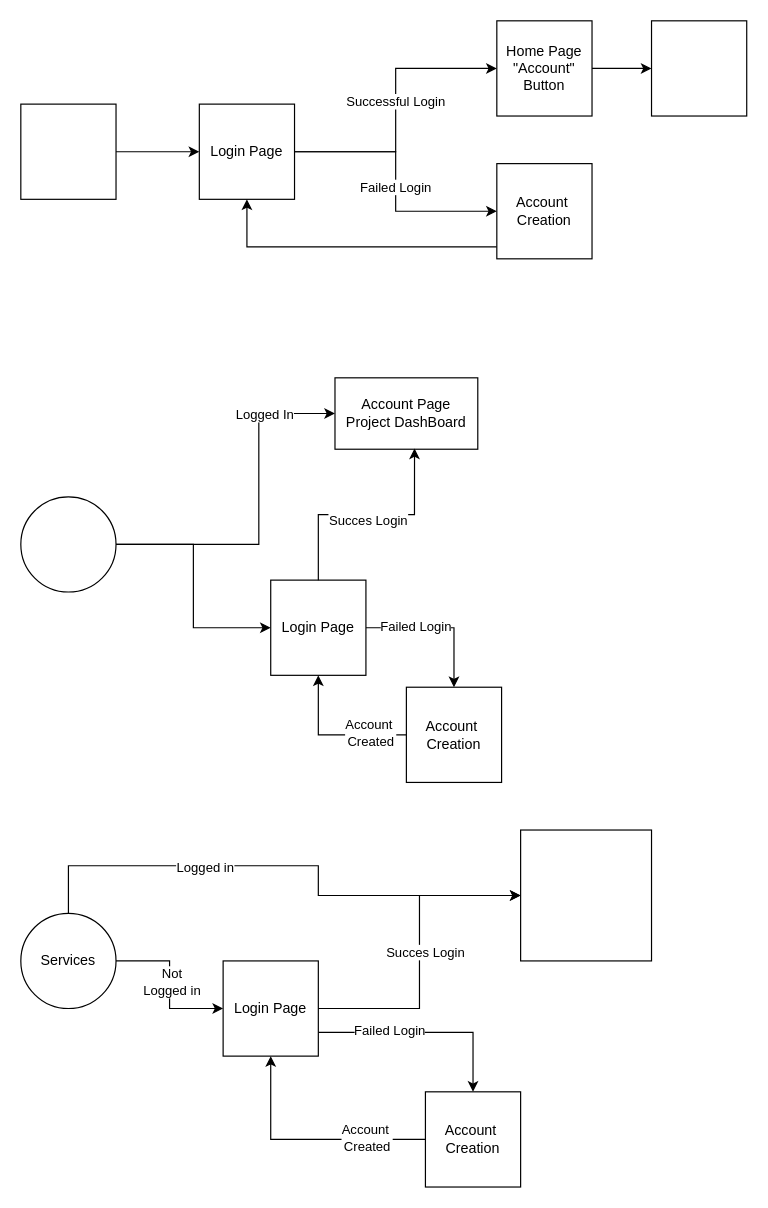
The diagram is 768 pixels wide and 1208 high, and some of its shapes have lost their labels. The box of each missing label's shape, as (x1, y1, x2, y2) in pixels:
Account Page: (650, 20, 747, 116)
Home Page "Login" Button: (20, 103, 116, 199)
Project Dashbaord Services type already selected: (519, 829, 652, 961)
Start Project: (20, 496, 116, 592)
